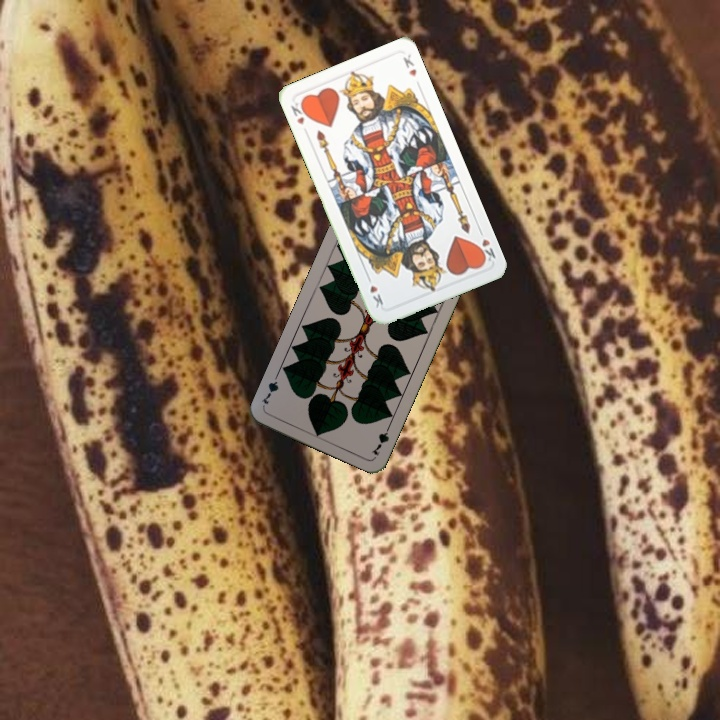G7: (367, 420, 393, 459)
HK: (473, 225, 498, 266), (287, 96, 311, 127)
